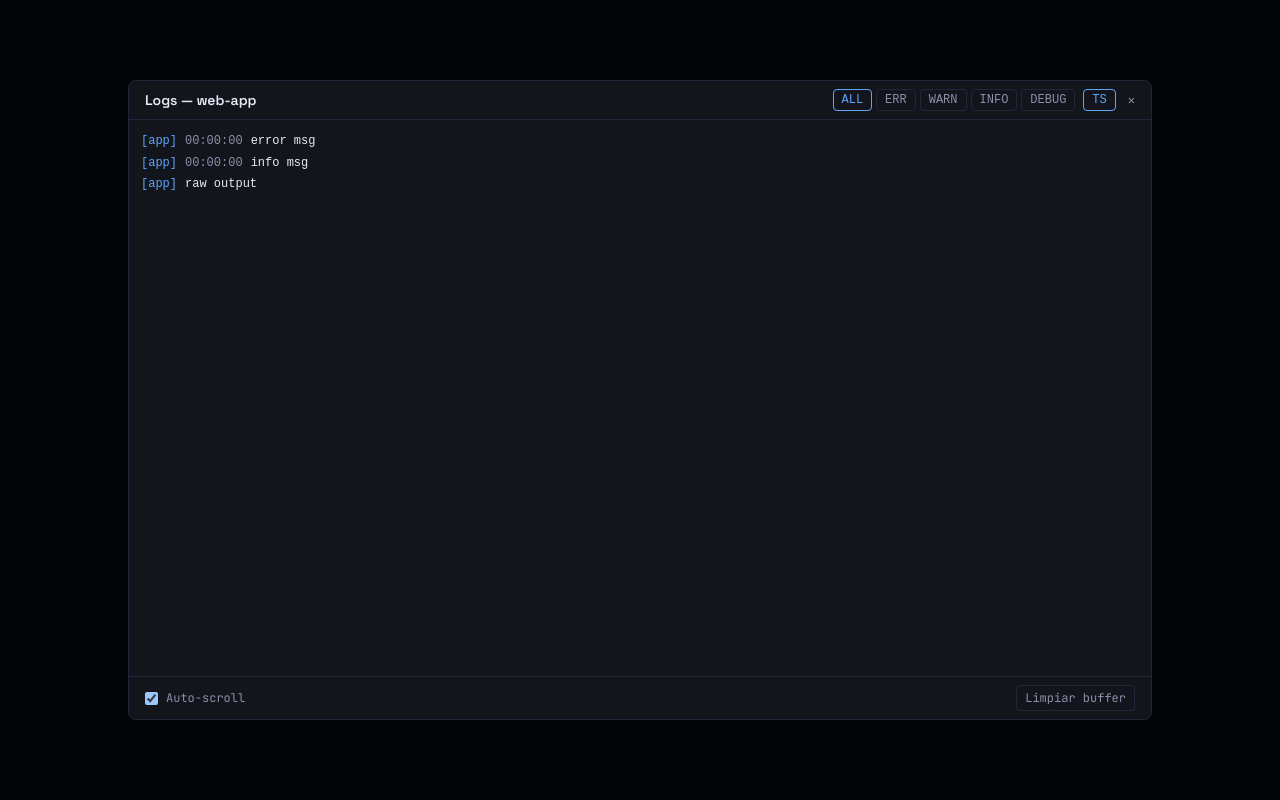
Test: LogsModal — filtros de nivel › filtro ERR solo muestra líneas con nivel >= 50 y líneas no-JSON
Click the button with aria-label "Filtro ERR" at (896, 100), box left=876, top=89, right=916, bottom=111
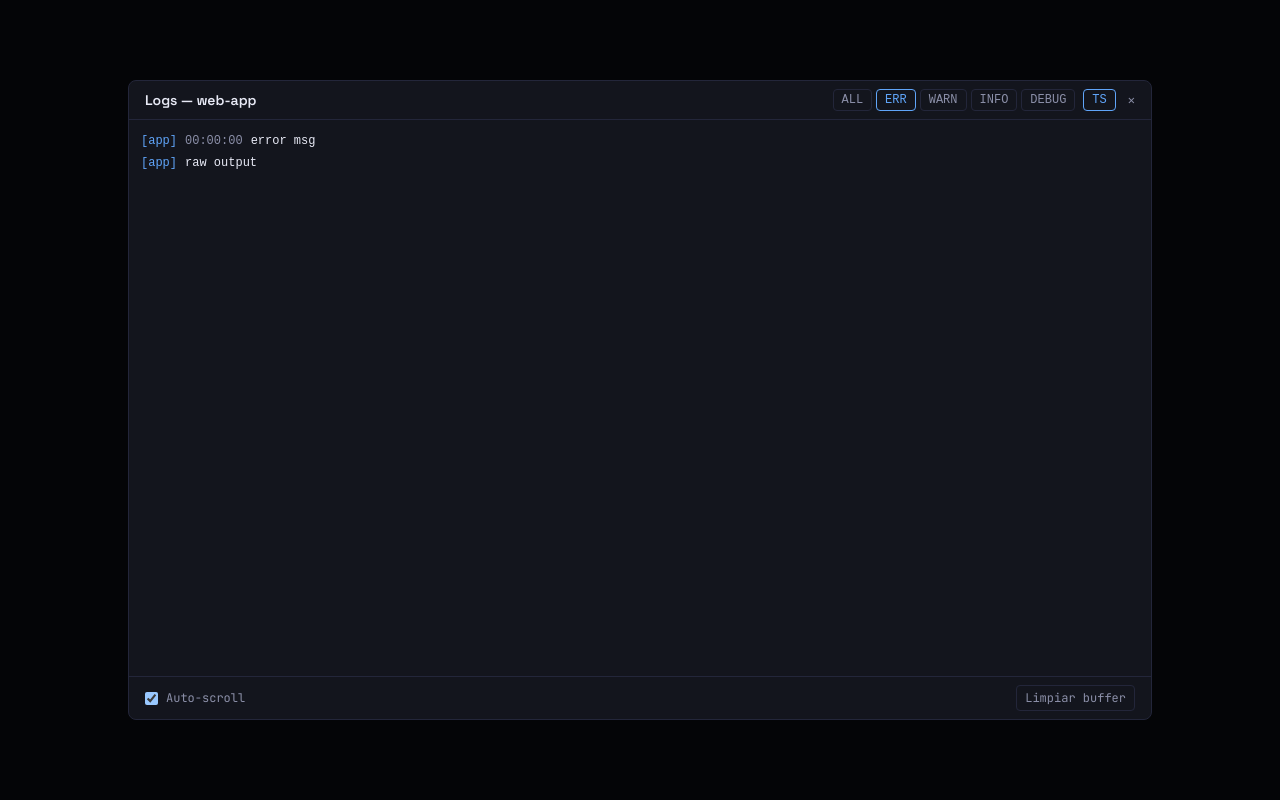
Expected: the text "error msg" is shown, left=251, top=134, right=315, bottom=148
Result: the text "info msg" is gone
Result: the text "[app]raw output" is shown at left=141, top=156, right=257, bottom=170
